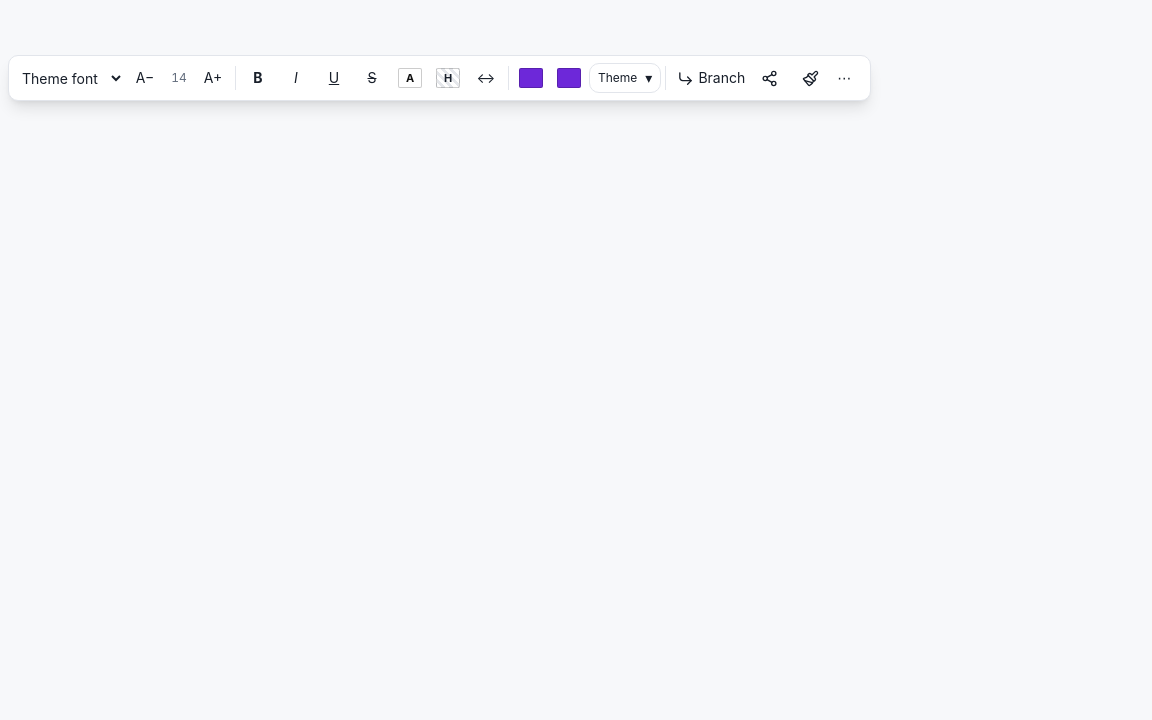
Test: quick toolbar › the Branch tool opens the branch controls, and Esc closes them
The width and height of the screenshot is (1152, 720).
Click the button "Branch": (711, 78) [670, 60, 752, 96]
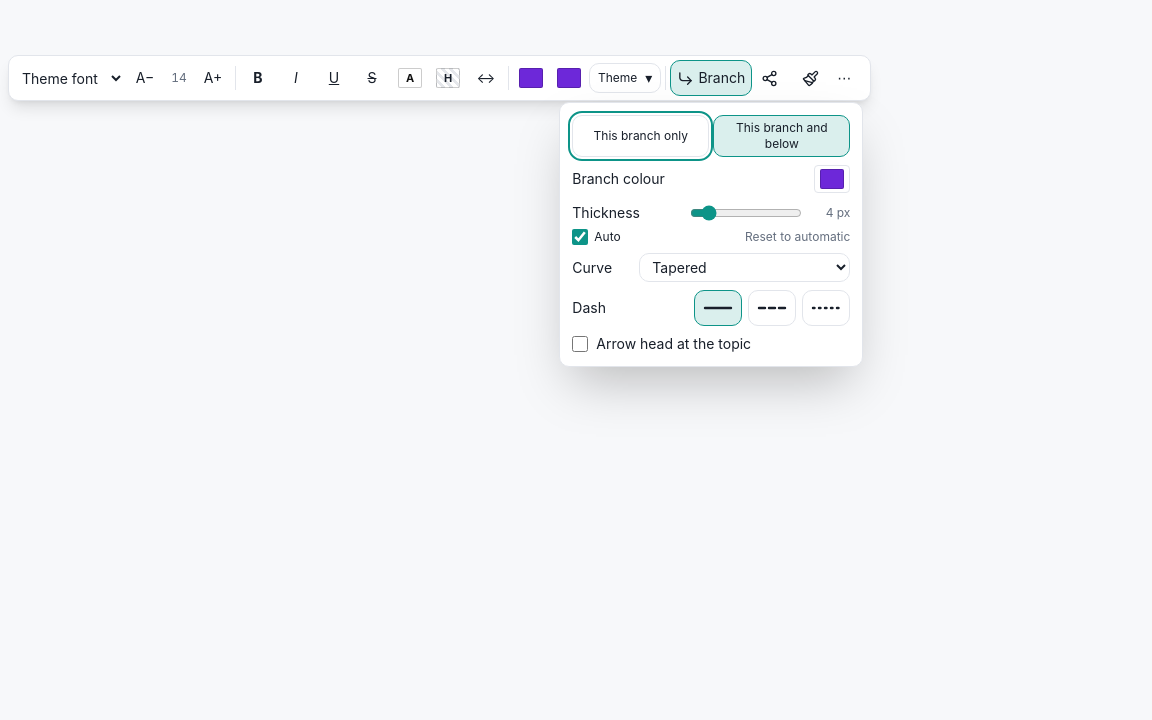
Check: the slider labelled "Thickness" is shown, box [690, 201, 802, 225]
Press Escape in the dialog "branch", box [559, 102, 863, 367]
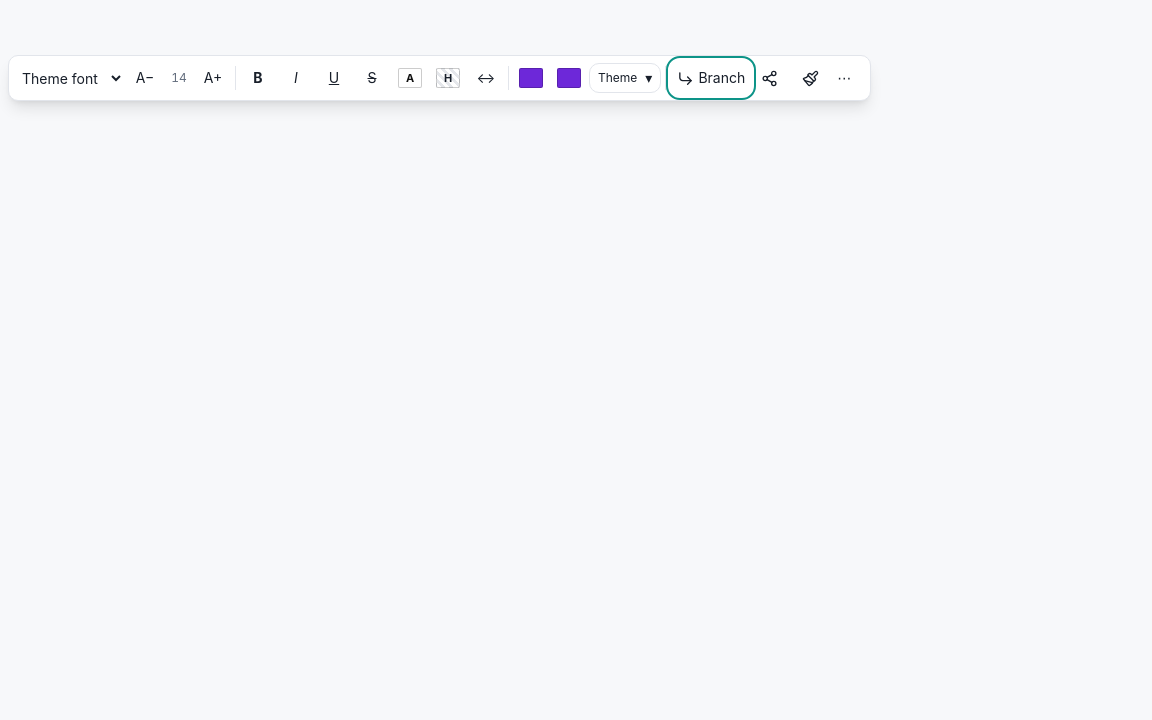
Check: the dialog is gone
